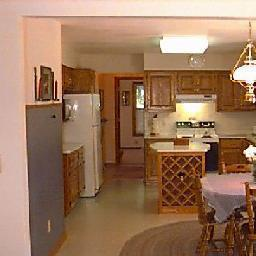Electrodomestico: (78, 96, 104, 196)
